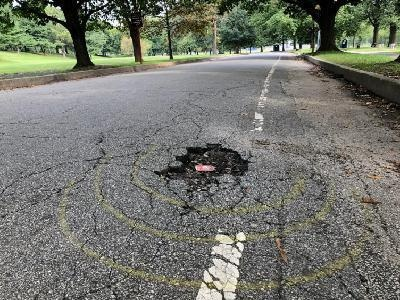pothole: (154, 140, 254, 185)
